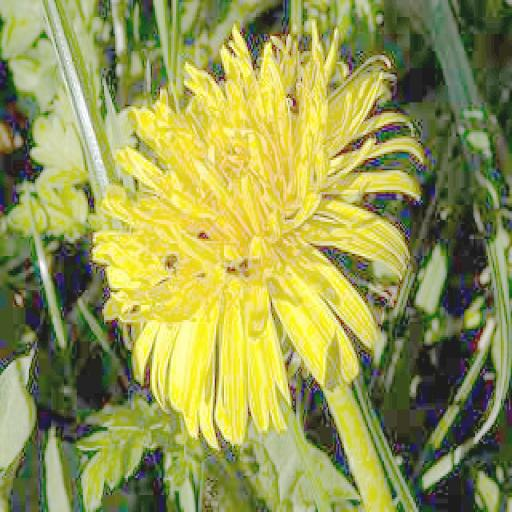dandelion: (104, 23, 421, 431)
